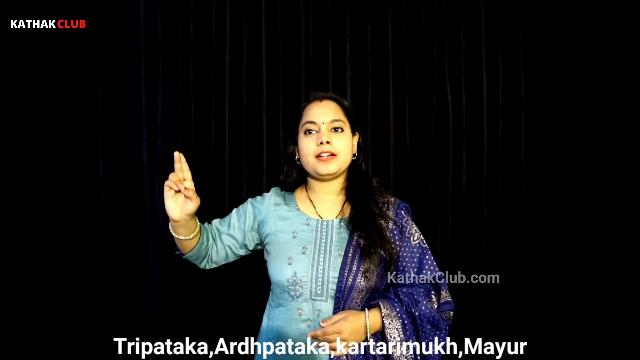ardhpataka: (137, 132, 227, 255)
